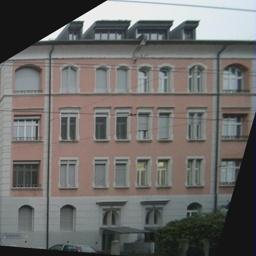building: (50, 3, 218, 247)
